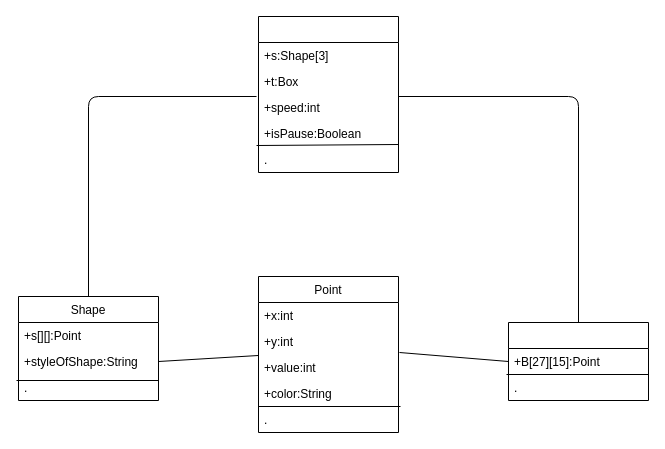
Some shapes in this 665 by 449 pixel diagram are drawn without their labels. The box of each missing label's shape, as (x1, y1, x2, y2) in pixels:
Box: (508, 322, 648, 400)
system: (258, 16, 398, 172)
